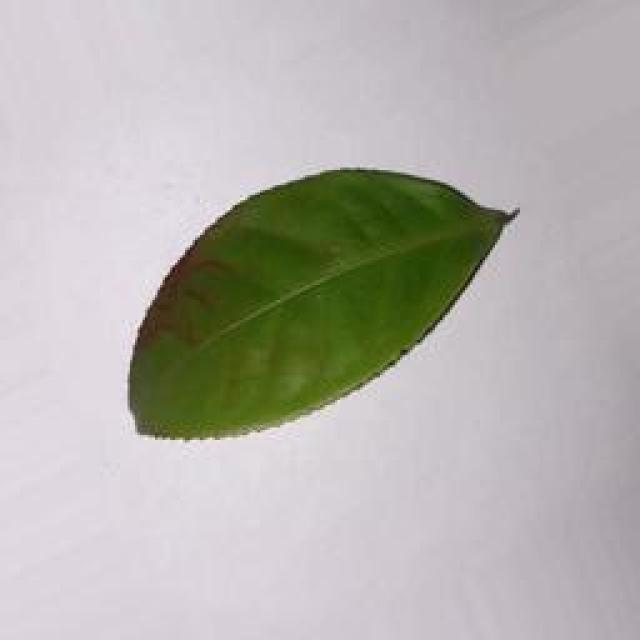Red Leaf Spot: (107, 153, 530, 447)
